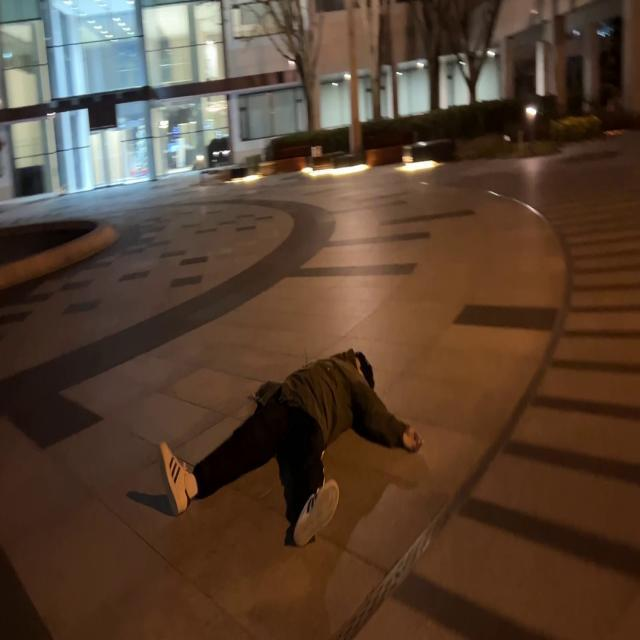Fall: (160, 350, 423, 548)
